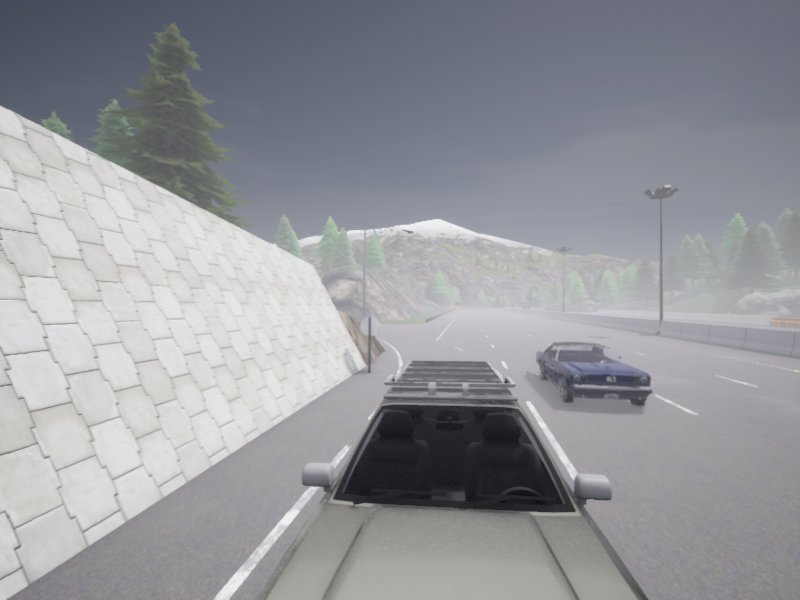vehicle: (256, 360, 648, 599), (536, 342, 652, 404), (522, 302, 528, 308), (535, 306, 539, 308)
